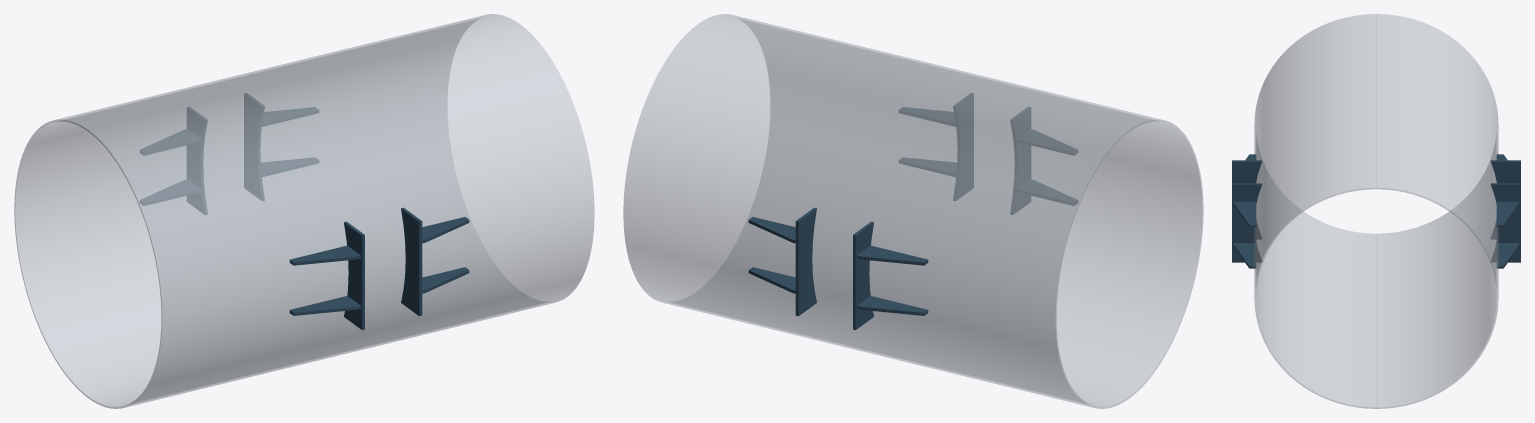
The model's file is TS-660.00.00-21-opora-dn1420.glb.
3 renders of one model, left to right at view 1: azimuth 30°, elevation 25°; view 2: azimuth 150°, elevation 25°; view 3: azimuth 270°, elevation 25°, orthographic. The views are drawn at different scales.
Parts seen in each view (by area): view 1: truba, upor_1, upor_7, upor_4, upor_10, upor_5, upor_6, upor_11, upor_12, upor_8, upor_2, upor_3 (+1 smaller); view 2: truba, upor_7, upor_1, upor_10, upor_4, upor_11, upor_12, upor_6, upor_5, upor_3, upor_8, upor_9 (+1 smaller); view 3: truba, upor_1, upor_7, upor_4, upor_10, upor_2, upor_9, upor_3, upor_8.
Part boxes in pixels (x1,y1,x2,y2): truba: (14,14,594,408); upor_1: (401,207,422,316); upor_7: (244,93,264,200); upor_4: (344,221,364,330); upor_10: (187,107,207,214); upor_5: (289,245,360,265); upor_6: (289,296,360,315); upor_11: (140,179,201,205); upor_12: (140,129,201,155); upor_8: (261,157,318,176); upor_2: (422,217,469,243); upor_3: (422,267,469,293); truba: (623,14,1203,408); upor_7: (795,207,816,316); upor_1: (953,93,973,200); upor_10: (853,221,873,330); upor_4: (1010,107,1030,214); upor_11: (857,296,928,315); upor_12: (857,245,928,265); upor_6: (1016,179,1077,205); upor_5: (1016,129,1077,155); upor_3: (899,157,956,176); upor_8: (748,267,795,293); upor_9: (748,217,795,243); truba: (1254,14,1498,408); upor_1: (1232,183,1262,262); upor_7: (1490,183,1520,262); upor_4: (1232,160,1262,239); upor_10: (1490,160,1520,239); upor_2: (1234,201,1256,227); upor_9: (1496,201,1518,227); upor_3: (1234,243,1256,268); upor_8: (1496,243,1518,268).
Size of the model in its own units: 2392 by 1420 by 1681.
